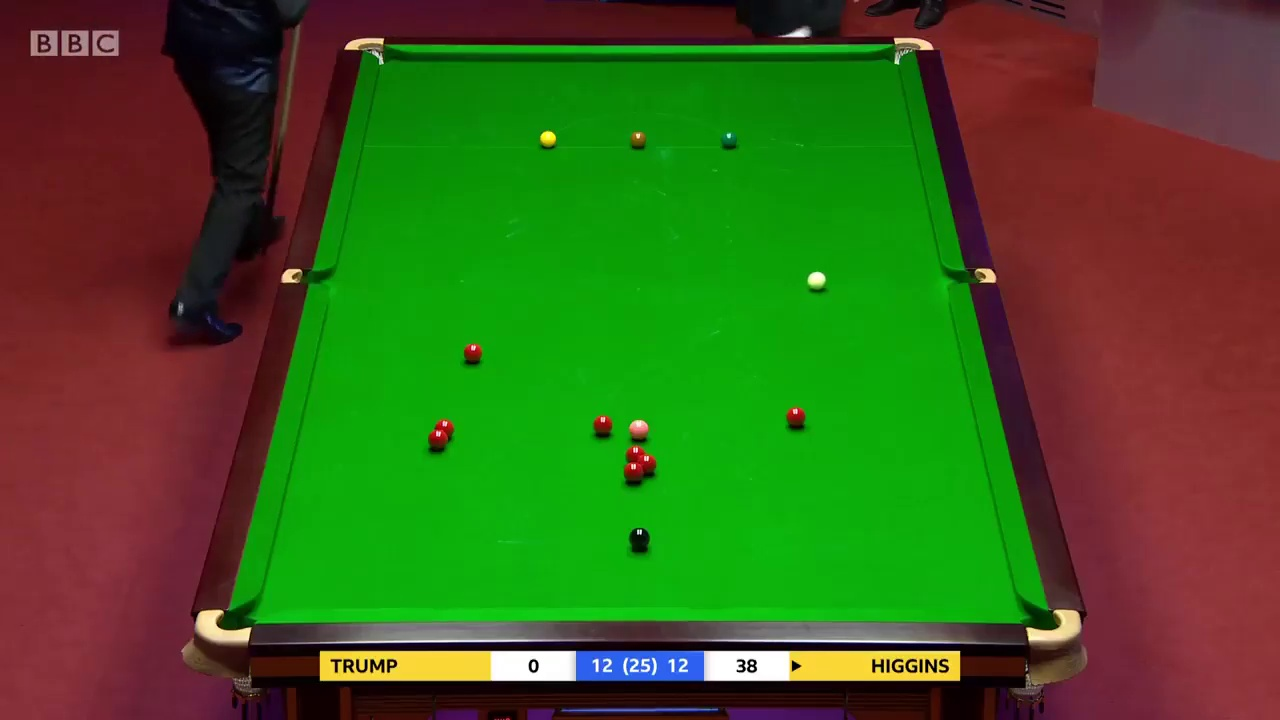ball: (628, 416, 651, 440), (627, 527, 649, 551), (461, 343, 484, 365), (805, 270, 827, 291), (623, 458, 643, 481), (784, 404, 803, 427), (592, 416, 614, 435), (630, 128, 648, 149), (428, 432, 445, 451), (539, 130, 555, 148), (720, 133, 737, 145)
